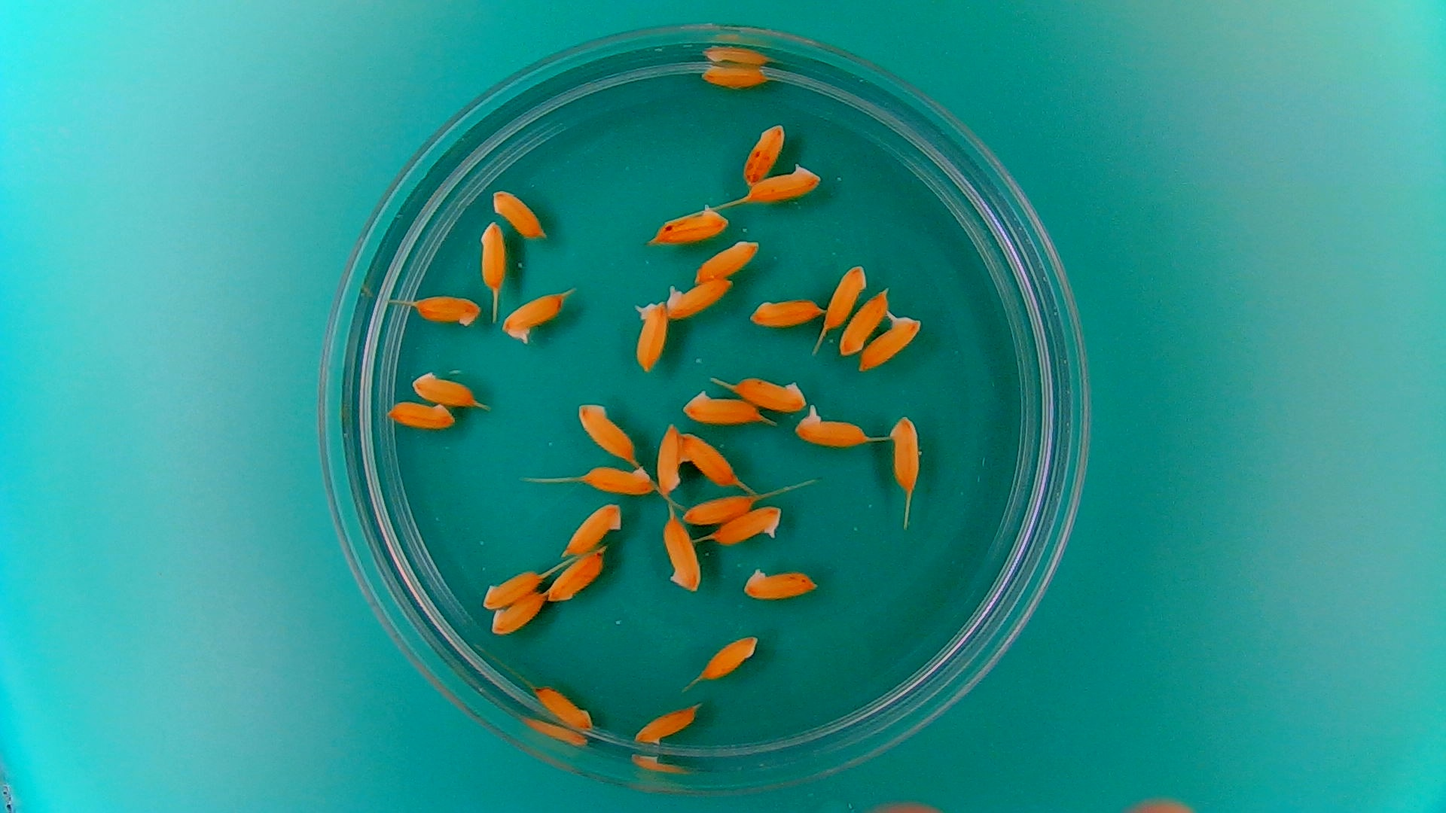no: (574, 398, 639, 464), (677, 429, 745, 490), (645, 201, 731, 248), (834, 283, 891, 353), (559, 500, 626, 558), (659, 513, 705, 596), (544, 547, 609, 604), (738, 119, 789, 190), (741, 163, 825, 205), (739, 562, 822, 604), (709, 502, 786, 547), (697, 629, 761, 683), (530, 681, 596, 733), (692, 236, 762, 285), (727, 371, 809, 412), (821, 262, 868, 333), (677, 387, 764, 425), (488, 184, 548, 239), (630, 704, 698, 751), (408, 367, 484, 408), (478, 565, 544, 611), (886, 410, 923, 491), (410, 290, 484, 330), (746, 293, 825, 330), (491, 589, 549, 638), (580, 461, 656, 496), (475, 216, 509, 293), (680, 494, 757, 527), (385, 398, 457, 431), (697, 61, 770, 90)
yes: (858, 314, 923, 373), (792, 404, 874, 450), (500, 290, 563, 346), (629, 296, 670, 376), (664, 274, 732, 321)
